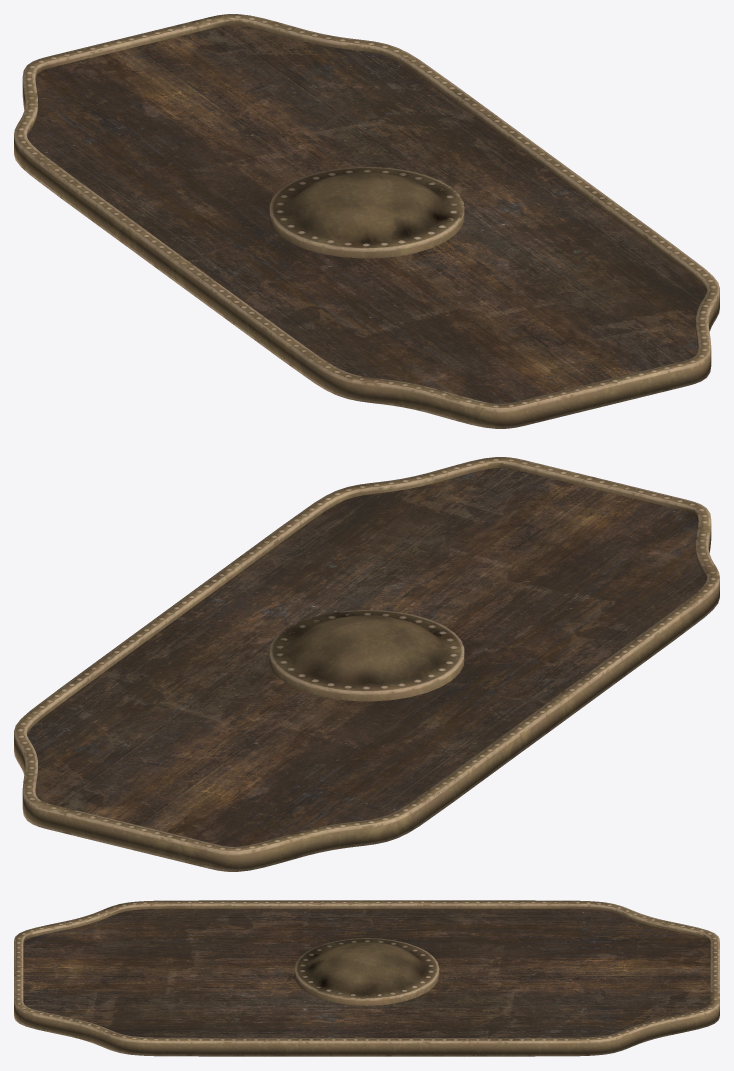
Rendered from dunland_wulf_shield_light_c.fbx.
3 views of the same model, one above another, from view 1: azimuth 30°, elevation 25°; view 2: azimuth 150°, elevation 25°; view 3: azimuth 270°, elevation 25° (orthographic). The views are drawn at different scales.
Visible parts, largest first — view 1: dunland_wulf_shield_light_c; view 2: dunland_wulf_shield_light_c; view 3: dunland_wulf_shield_light_c.
Boxes of the visible parts, x1,y1,x2,y2 form: dunland_wulf_shield_light_c: [14, 14, 719, 428]; dunland_wulf_shield_light_c: [14, 457, 719, 871]; dunland_wulf_shield_light_c: [14, 900, 719, 1056].
Size of the model in its own units: 0.72 by 1.52 by 0.0818.
Materials: 1 (1 with a texture image).
